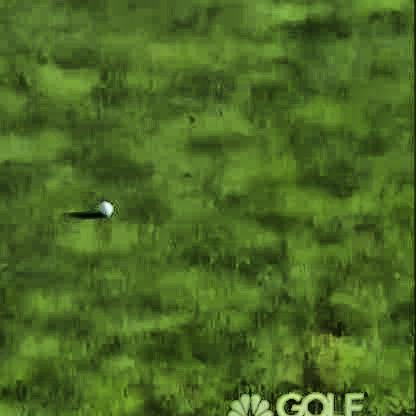golfball: (97, 199, 113, 215)
